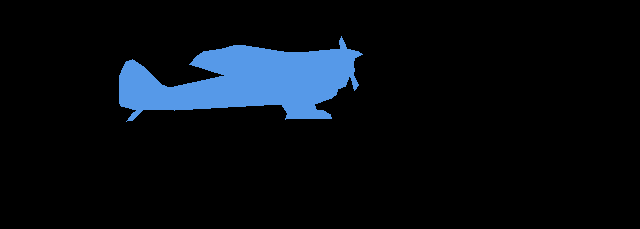Airplane: (119, 36, 362, 121)
